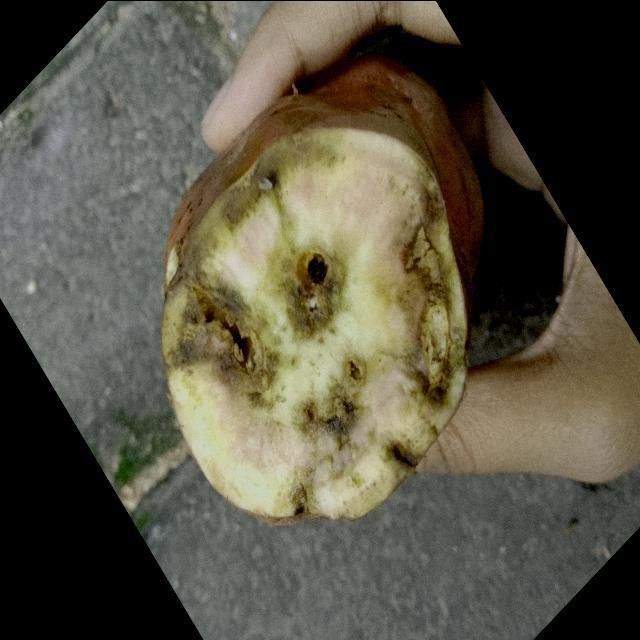Sick Sweet Potato_Tuber Rot: (161, 95, 468, 523)
